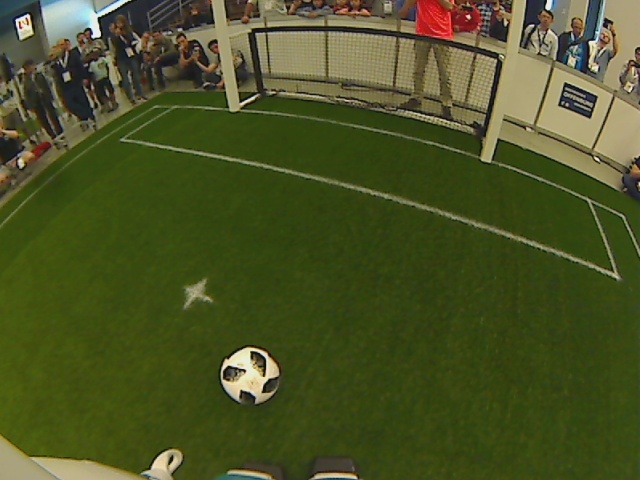ball: (218, 344, 282, 408)
goalpost: (469, 142, 501, 176), (220, 93, 245, 123)
